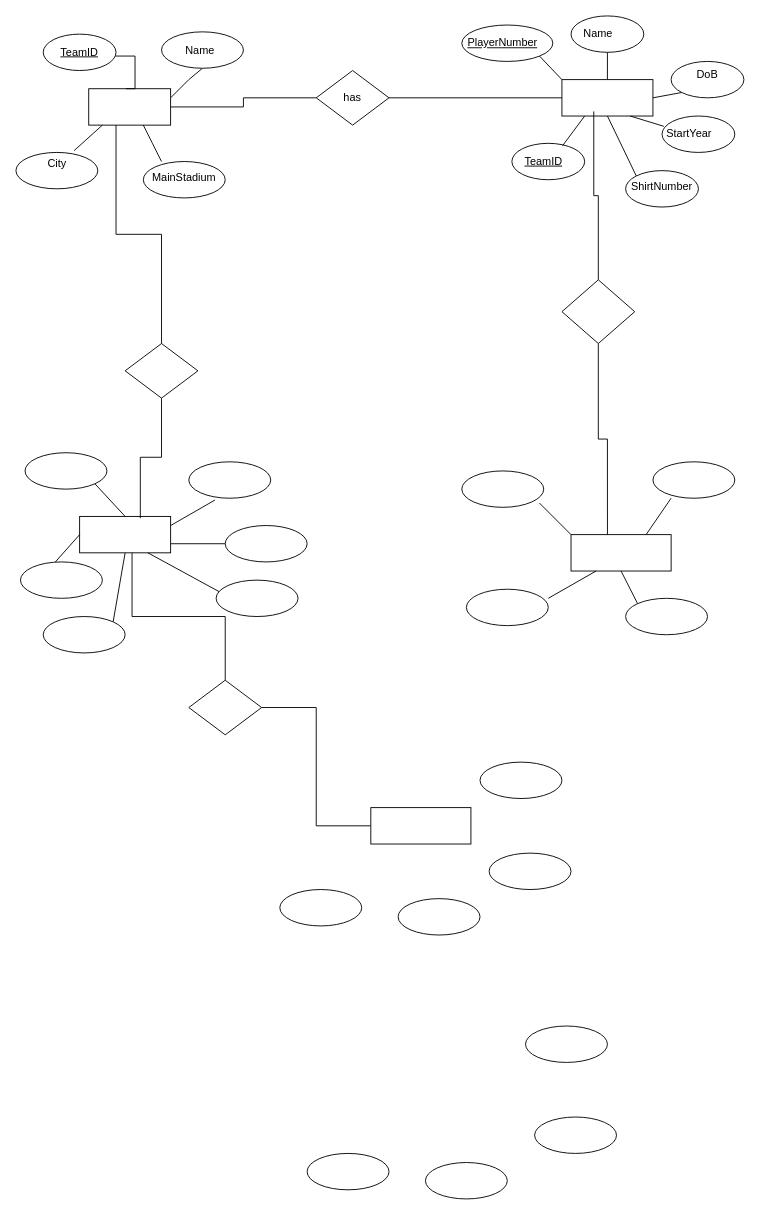
This 760x1215 diagram has some shape labels left out. Each missing label, with the centre of its shape:
Player: (607,97)
Team: (129,106)
